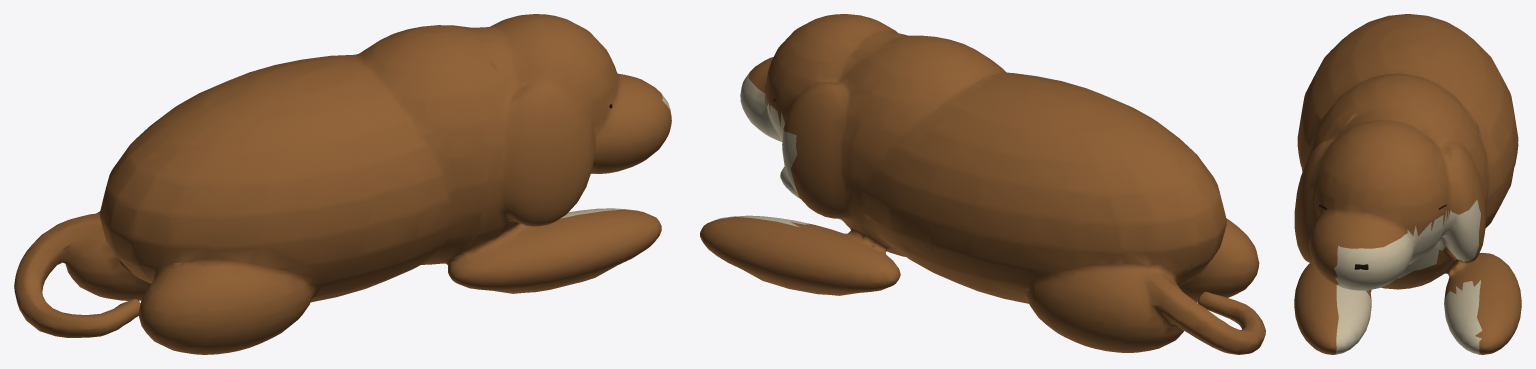
File: judge.glb
3 views of the same model, side by side, from view 1: azimuth 30°, elevation 25°; view 2: azimuth 150°, elevation 25°; view 3: azimuth 270°, elevation 25° (orthographic). The views are drawn at different scales.
Visible parts, largest first — view 1: Judge_StaticFirstPass; view 2: Judge_StaticFirstPass; view 3: Judge_StaticFirstPass.
Part boxes in pixels (left/top/right/bottom): Judge_StaticFirstPass: left=14, top=14, right=671, bottom=354; Judge_StaticFirstPass: left=700, top=14, right=1265, bottom=354; Judge_StaticFirstPass: left=1294, top=14, right=1521, bottom=354.
Size of the model in its own units: 0.8368 by 0.32 by 0.3183.
Materials: 3 (3 with a texture image).
